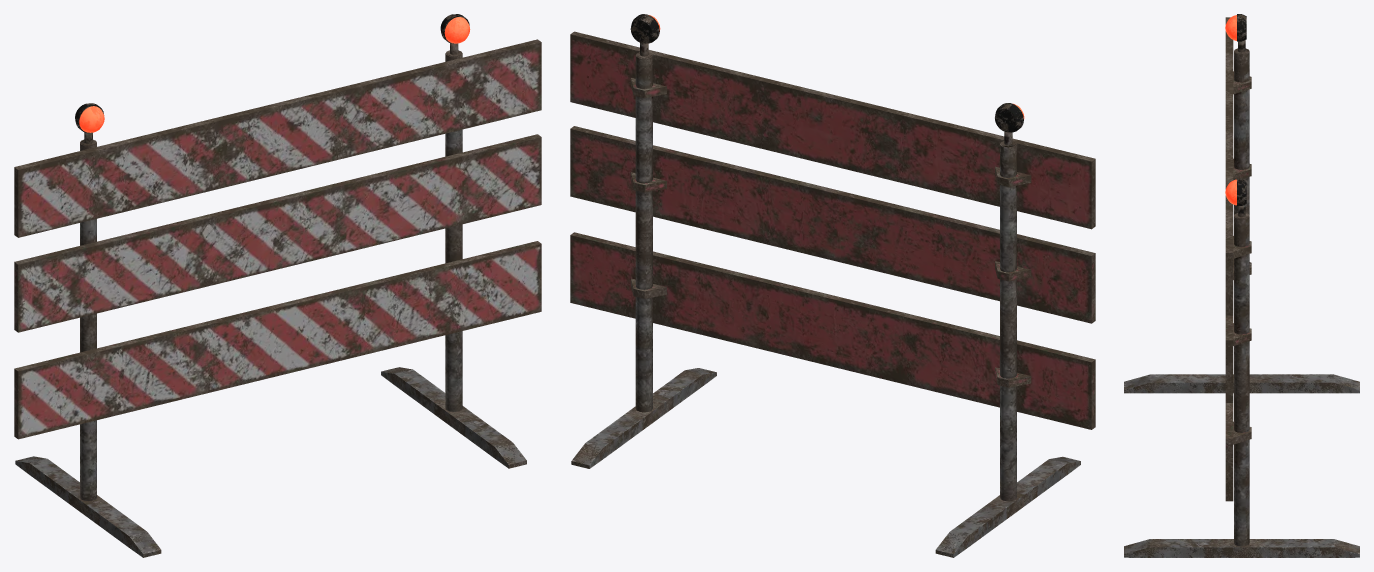
The model's file is striped.glb.
3 renders of one model, left to right at view 1: azimuth 30°, elevation 25°; view 2: azimuth 150°, elevation 25°; view 3: azimuth 270°, elevation 25°, orthographic. The views are drawn at different scales.
Parts seen in each view (by area): view 1: pasted__pasted__pCube3_Barrier_0, group4_Base_0, pSphere2_Glass_0, pSphere2_Plastic_0; view 2: pasted__pasted__pCube3_Barrier_0, group4_Base_0, pSphere2_Plastic_0; view 3: group4_Base_0, pasted__pasted__pCube3_Barrier_0, pSphere2_Plastic_0, pSphere2_Glass_0.
Boxes of the visible parts, <box> form: pasted__pasted__pCube3_Barrier_0: <box>14,39,541,439</box>; group4_Base_0: <box>15,51,526,557</box>; pSphere2_Glass_0: <box>79,17,470,132</box>; pSphere2_Plastic_0: <box>75,14,469,145</box>; pasted__pasted__pCube3_Barrier_0: <box>570,31,1095,429</box>; group4_Base_0: <box>571,52,1080,557</box>; pSphere2_Plastic_0: <box>630,14,1023,147</box>; group4_Base_0: <box>1124,48,1359,557</box>; pasted__pasted__pCube3_Barrier_0: <box>1225,17,1251,501</box>; pSphere2_Plastic_0: <box>1234,14,1248,218</box>; pSphere2_Glass_0: <box>1225,15,1236,205</box>.
Size of the model in its own units: 2.86 by 2.12 by 1.21.
Materials: 4 (4 with a texture image).
